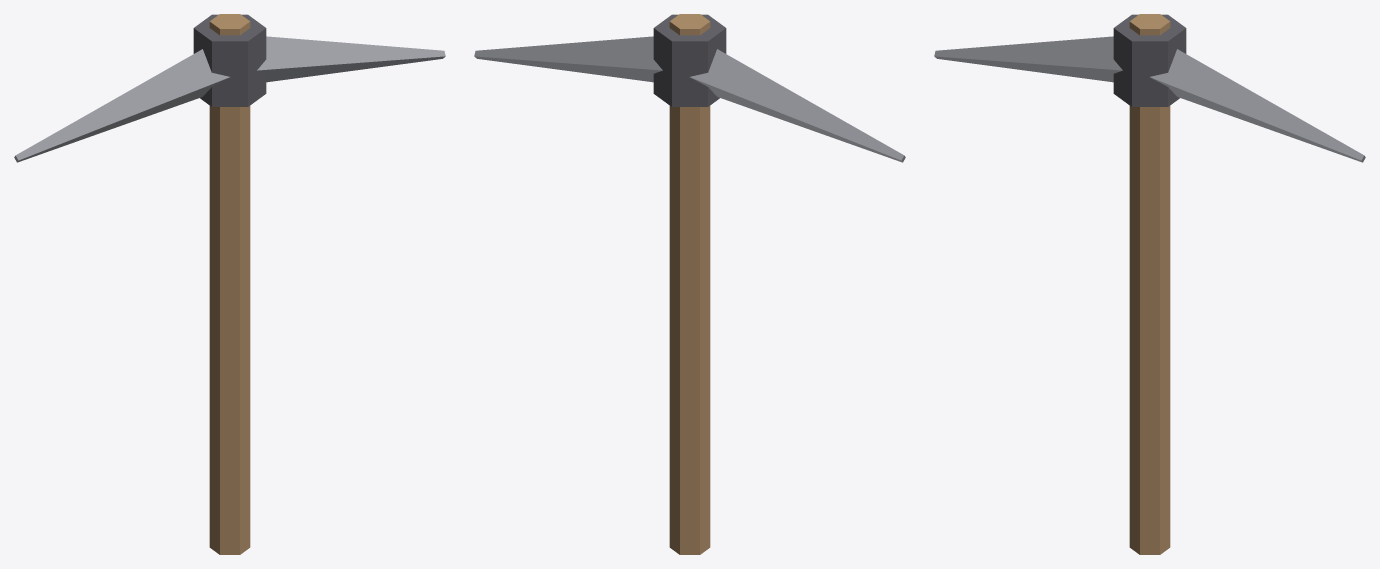
The model's file is tool_pickaxe.glb.
The picture shows the model from 3 angles, left to right: view 1: azimuth 30°, elevation 25°; view 2: azimuth 150°, elevation 25°; view 3: azimuth 330°, elevation 25°; orthographic projection.
Parts seen in each view (by area): view 1: Tool; view 2: Tool; view 3: Tool.
Part boxes in pixels (x1,y1,x2,y2): Tool: [14, 14, 445, 554]; Tool: [474, 14, 905, 554]; Tool: [934, 14, 1365, 554].
Size of the model in its own units: 0.6824 by 0.8 by 0.1.
